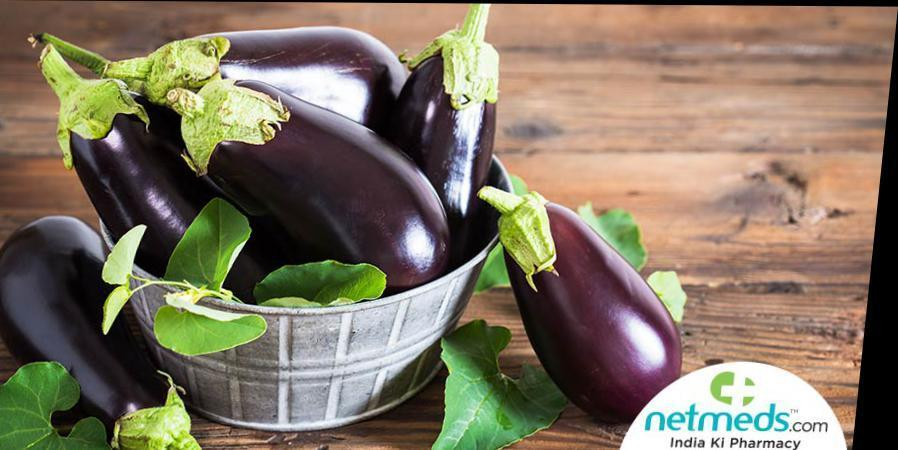eggplant: (41, 29, 719, 408), (0, 194, 194, 428)
